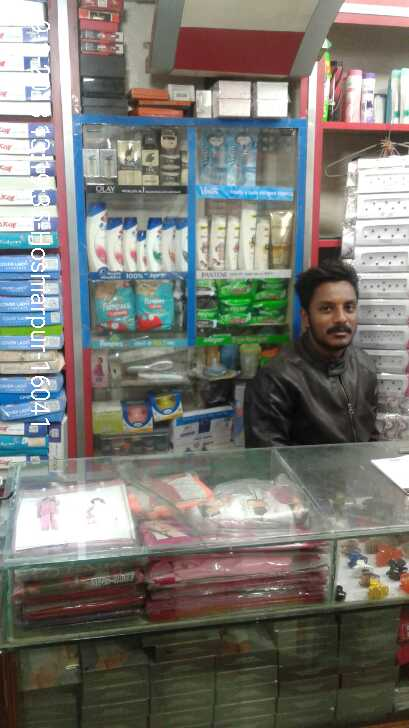venus: (227, 129, 257, 185), (202, 131, 227, 185)
